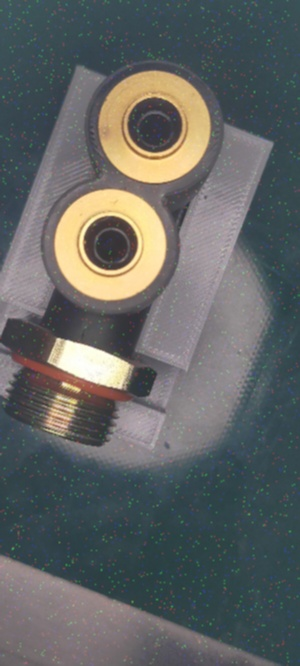craze: (77, 328, 89, 342)
